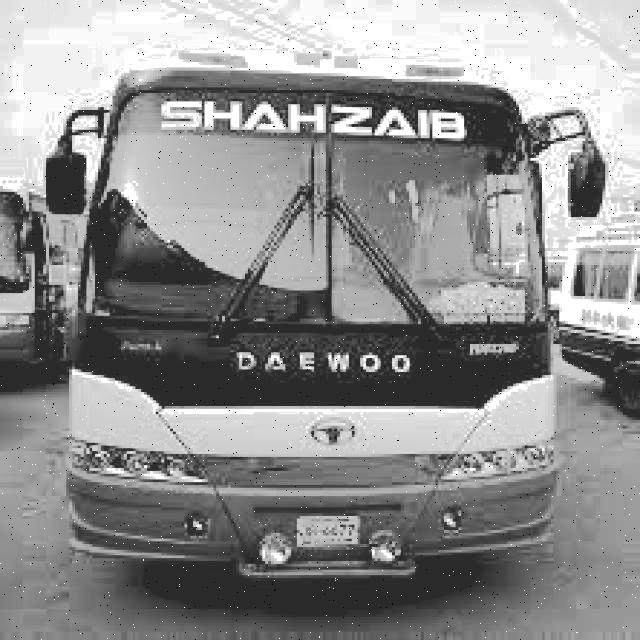Bus: (23, 32, 613, 582)
